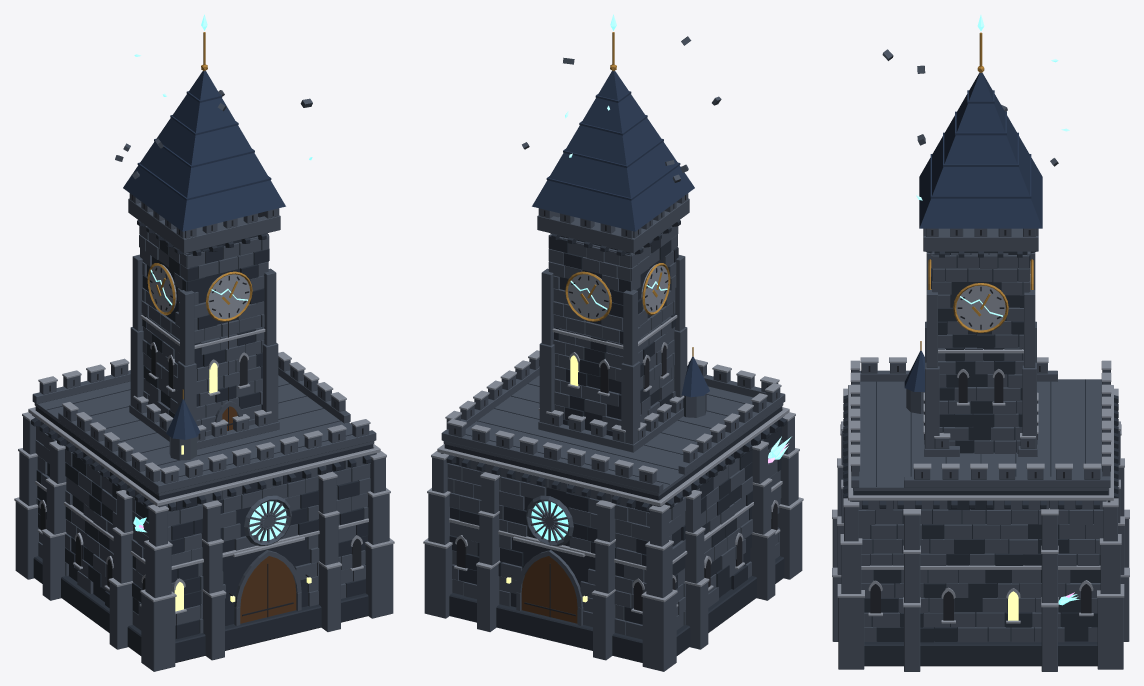
The model's file is FortKit.fbx.
The picture shows the model from 3 angles, left to right: view 1: azimuth 30°, elevation 25°; view 2: azimuth 150°, elevation 25°; view 3: azimuth 270°, elevation 25°; orthographic projection. The views are drawn at different scales.
Parts seen in each view (by area): view 1: Fort_Donjon_Pierre, Fort_Donjon_PierreSombre, Fort_Donjon_Ardoise, Fort_Donjon_PierreClaire, Fort_Donjon_Bois, Fort_TourGuet_Pierre, Fort_Donjon_Fer, Fort_Donjon_Noyau, Fort_Donjon_Laiton, Fort_TourGuet_Ardoise, Fort_Donjon_Lumiere; view 2: Fort_Donjon_Pierre, Fort_Donjon_PierreSombre, Fort_Donjon_Ardoise, Fort_Donjon_PierreClaire, Fort_TourGuet_Pierre, Fort_Donjon_Bois, Fort_Donjon_Fer, Fort_Donjon_Noyau, Fort_Donjon_Laiton, Fort_TourGuet_Ardoise, Fort_TourGuet_PierreClaire; view 3: Fort_Donjon_Pierre, Fort_Donjon_PierreSombre, Fort_Donjon_Ardoise, Fort_Donjon_PierreClaire, Fort_Donjon_Fer, Fort_TourGuet_Pierre, Fort_Donjon_Laiton, Fort_TourGuet_Ardoise.
Part boxes in pixels (<box>): Fort_Donjon_Pierre: <box>15,90,393,671</box>; Fort_Donjon_PierreSombre: <box>31,220,373,662</box>; Fort_Donjon_Ardoise: <box>123,70,285,231</box>; Fort_Donjon_PierreClaire: <box>14,264,394,614</box>; Fort_Donjon_Bois: <box>222,406,296,623</box>; Fort_TourGuet_Pierre: <box>129,399,279,460</box>; Fort_Donjon_Fer: <box>40,195,363,617</box>; Fort_Donjon_Noyau: <box>133,14,312,540</box>; Fort_Donjon_Laiton: <box>147,32,252,321</box>; Fort_TourGuet_Ardoise: <box>166,399,200,439</box>; Fort_Donjon_Lumiere: <box>174,362,311,611</box>; Fort_Donjon_Pierre: <box>424,36,802,671</box>; Fort_Donjon_PierreSombre: <box>441,220,786,662</box>; Fort_Donjon_Ardoise: <box>532,70,694,231</box>; Fort_Donjon_PierreClaire: <box>423,264,803,614</box>; Fort_TourGuet_Pierre: <box>538,394,706,452</box>; Fort_Donjon_Bois: <box>521,556,577,623</box>; Fort_Donjon_Fer: <box>454,195,777,617</box>; Fort_Donjon_Noyau: <box>531,14,791,540</box>; Fort_Donjon_Laiton: <box>565,32,670,321</box>; Fort_TourGuet_Ardoise: <box>681,356,709,397</box>; Fort_TourGuet_PierreClaire: <box>538,395,684,432</box>; Fort_Donjon_Pierre: <box>832,49,1129,671</box>; Fort_Donjon_PierreSombre: <box>843,251,1118,666</box>; Fort_Donjon_Ardoise: <box>919,72,1042,228</box>; Fort_Donjon_PierreClaire: <box>832,261,1129,623</box>; Fort_Donjon_Fer: <box>851,230,1110,620</box>; Fort_TourGuet_Pierre: <box>906,389,1037,456</box>; Fort_Donjon_Laiton: <box>928,32,1033,332</box>; Fort_TourGuet_Ardoise: <box>904,350,924,391</box>.
Size of the model in its own units: 36.75 by 81.57 by 36.75.
